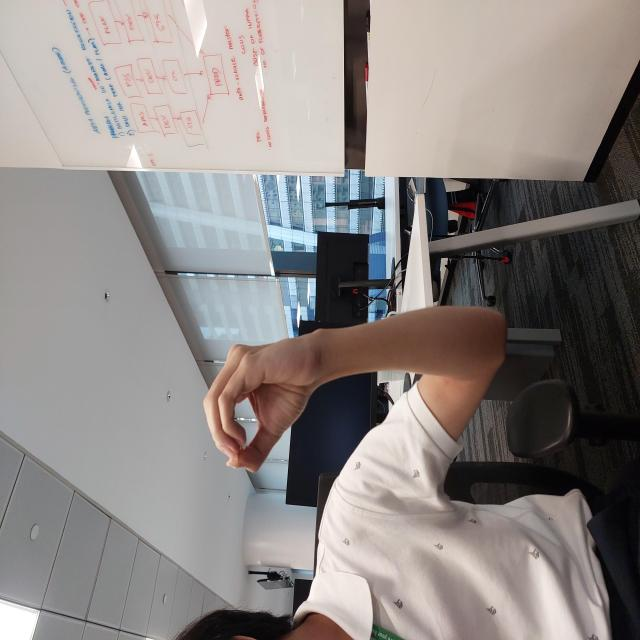O: (166, 198, 308, 322)
